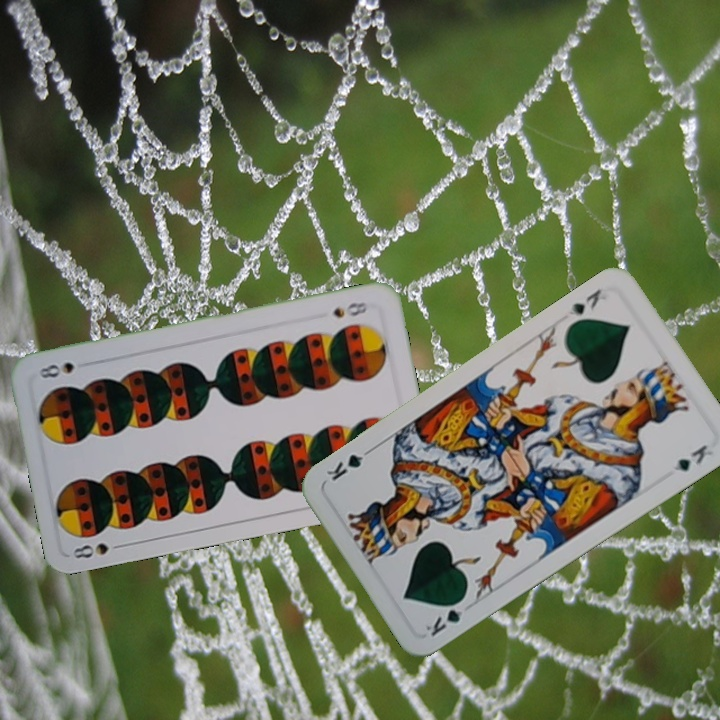GK: (421, 593, 469, 640), (565, 284, 604, 318)
S8: (68, 539, 128, 561), (329, 298, 372, 321)
